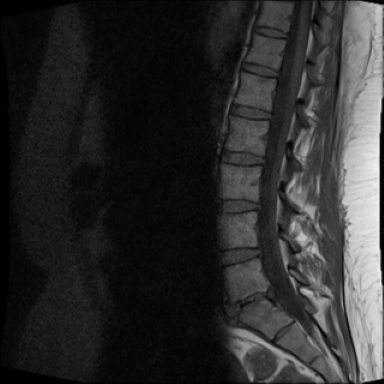Degenerative Disc Disease (DDD): (219, 275, 280, 313)
Lumbar Disc Bulge (LDB): (221, 270, 283, 318), (212, 191, 266, 208)
Normal IVD: (214, 235, 265, 264), (218, 138, 270, 161), (239, 49, 286, 74), (227, 94, 275, 116), (252, 19, 293, 35)
Spinal Stenosis (SS): (262, 271, 285, 303), (252, 184, 271, 210)
